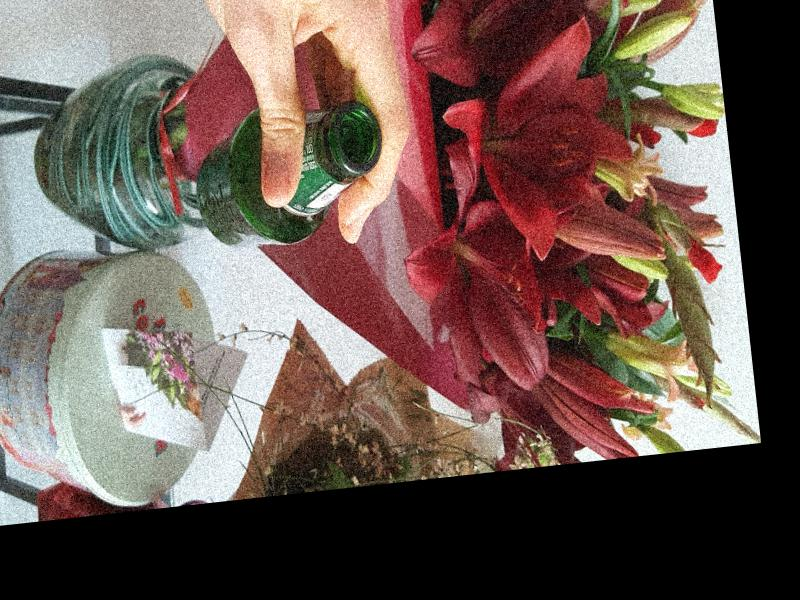Beer: (188, 93, 392, 253)
